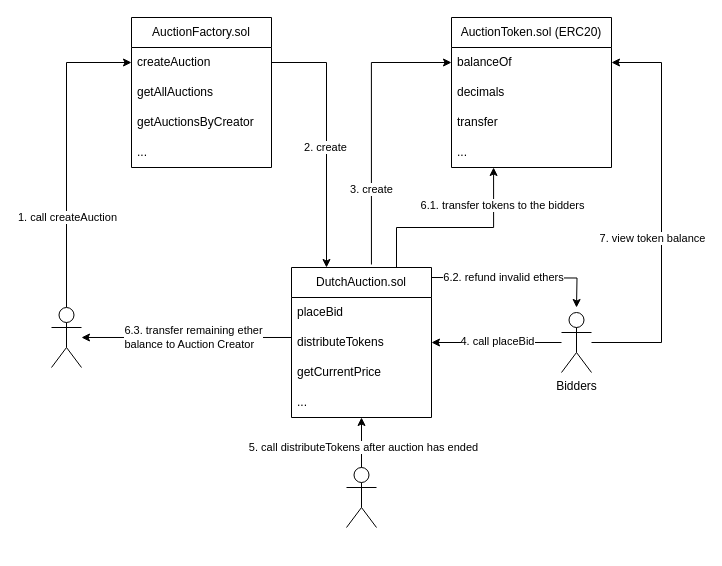
Some shapes in this 722 by 566 pixel diagram are drawn without their labels. The shapes that lost their labels are listed below. From the top down, each one's centre as x and y in pixels, then its label:
At (66,337): "Auction Creator".
At (361,497): "Anyone".
